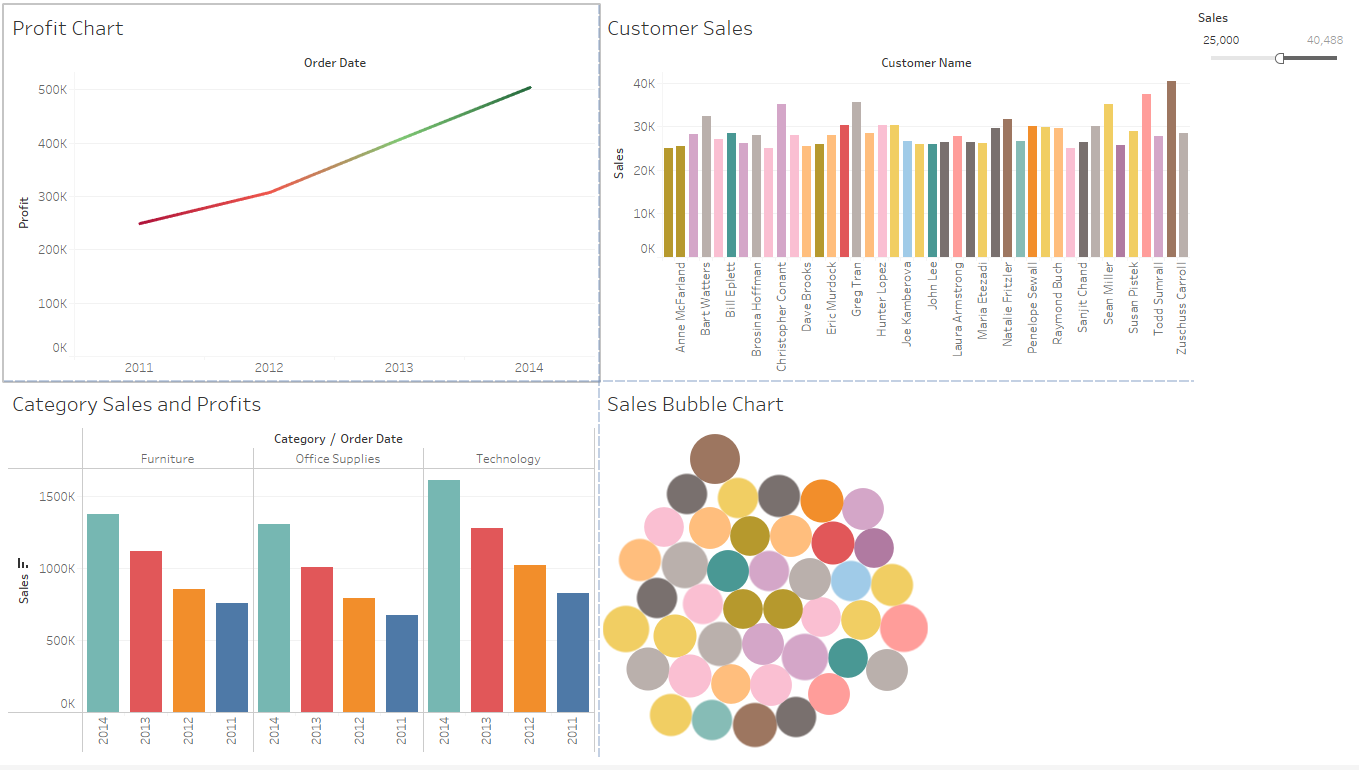

What the dashboard file says about the page in this screenshot:
{"tool":"tableau","page":{"name":"Dashboard","canvas":[1366,768],"ordinal":0},"visuals":[{"type":"worksheet","title":"Profit Chart","mark":"Automatic","rows":["Profit"],"cols":["Order Date"],"box":[8,8,595,376]},{"type":"worksheet","title":"Customer Sales","mark":"Automatic","rows":["Sales"],"cols":["Customer Name"],"box":[603,8,595,376]},{"type":"filter","title":"Customer Sales","param":"[federated.093qejq0tlyfcs18ozxgs1s7kil8].[sum:Sales:qk]","box":[1198,8,160,69]},{"type":"worksheet","title":"Category Sales and Profits","mark":"Bar","rows":["Sales"],"cols":["Category","Order Date"],"box":[8,384,595,376]},{"type":"worksheet","title":"Sales Bubble Chart","mark":"Circle","box":[603,384,595,376]}]}

Visuals, with their boxes in screenshot pixels (x1, y1, x2, y2), scaled from the page's 1366x768 canvas onto the 1359x770 screenshot:
"Profit Chart" worksheet: 8/8/600/385
"Customer Sales" worksheet: 600/8/1192/385
"Customer Sales" filter: 1192/8/1351/77
"Category Sales and Profits" worksheet (Bar marks): 8/385/600/762
"Sales Bubble Chart" worksheet (Circle marks): 600/385/1192/762
